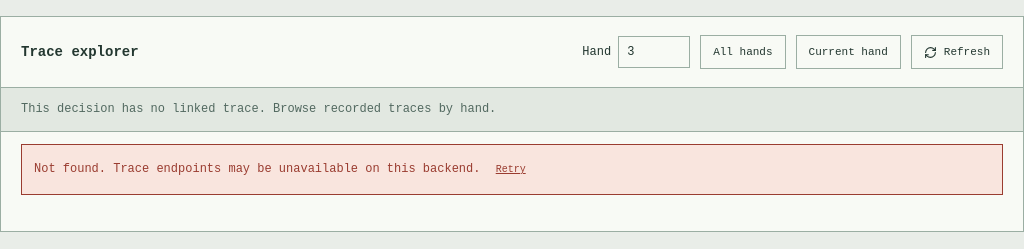
Test: trace requests and selection › shows endpoint failure without substituting the fixture and retries
Expected: the text "Not found. Trace endpoints may be unavailable on this backend. Retry" is shown, [21,144,1003,195]
Click the button "Retry": (511, 170) [496,157,526,182]
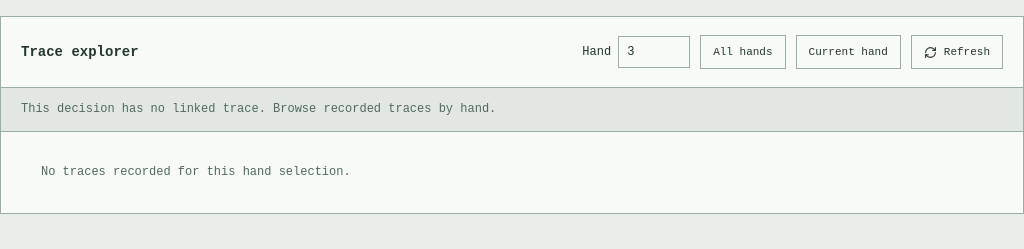
Expected: the text "No traces recorded for this hand selection." is shown, [41,165,351,179]
